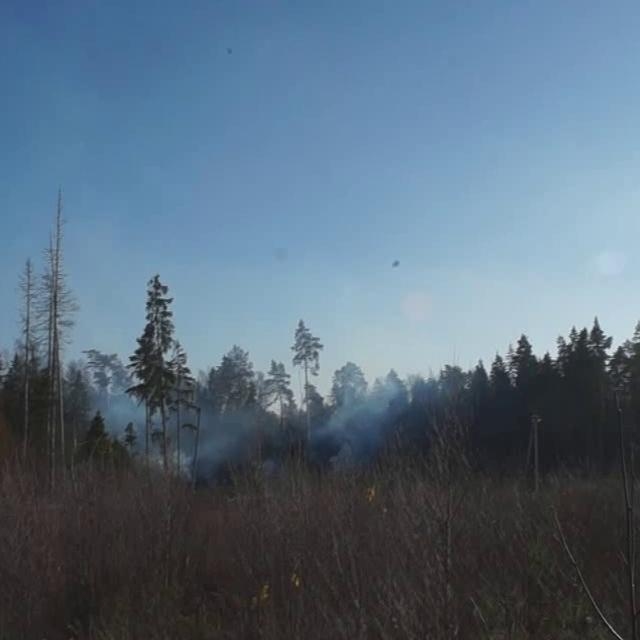Smoke: (92, 363, 430, 490)
